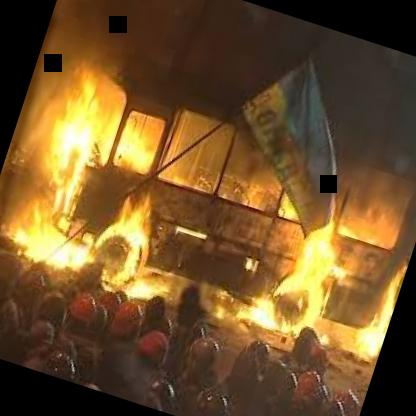fire: (9, 62, 414, 352)
